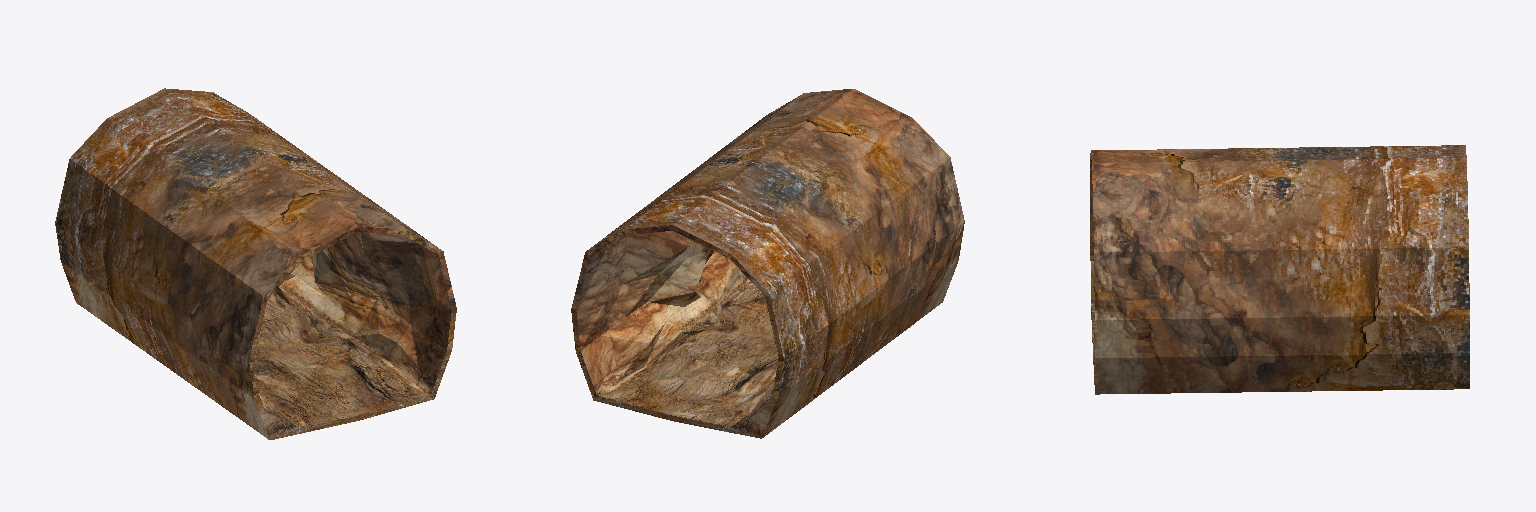
The picture shows the model from 3 angles: view 1: azimuth 30°, elevation 25°; view 2: azimuth 150°, elevation 25°; view 3: azimuth 270°, elevation 25°; orthographic projection.
Visible parts, largest first — view 1: cavecorridor3; view 2: cavecorridor3; view 3: cavecorridor3.
Boxes of the visible parts, box(x1,y1,x2,y2) form: cavecorridor3: box(55, 88, 456, 439); cavecorridor3: box(571, 89, 964, 438); cavecorridor3: box(1090, 145, 1469, 394).
Size of the model in its own units: 105 by 91.67 by 160.
Materials: 1 (1 with a texture image).